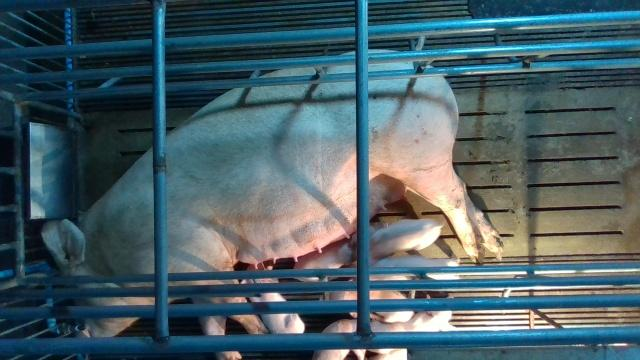piglet: (292, 223, 388, 280), (242, 263, 305, 334), (352, 295, 462, 332), (350, 216, 442, 259), (357, 255, 458, 294), (325, 287, 413, 321), (311, 318, 364, 358)
sow-sleep-lactate: (42, 49, 502, 360)
